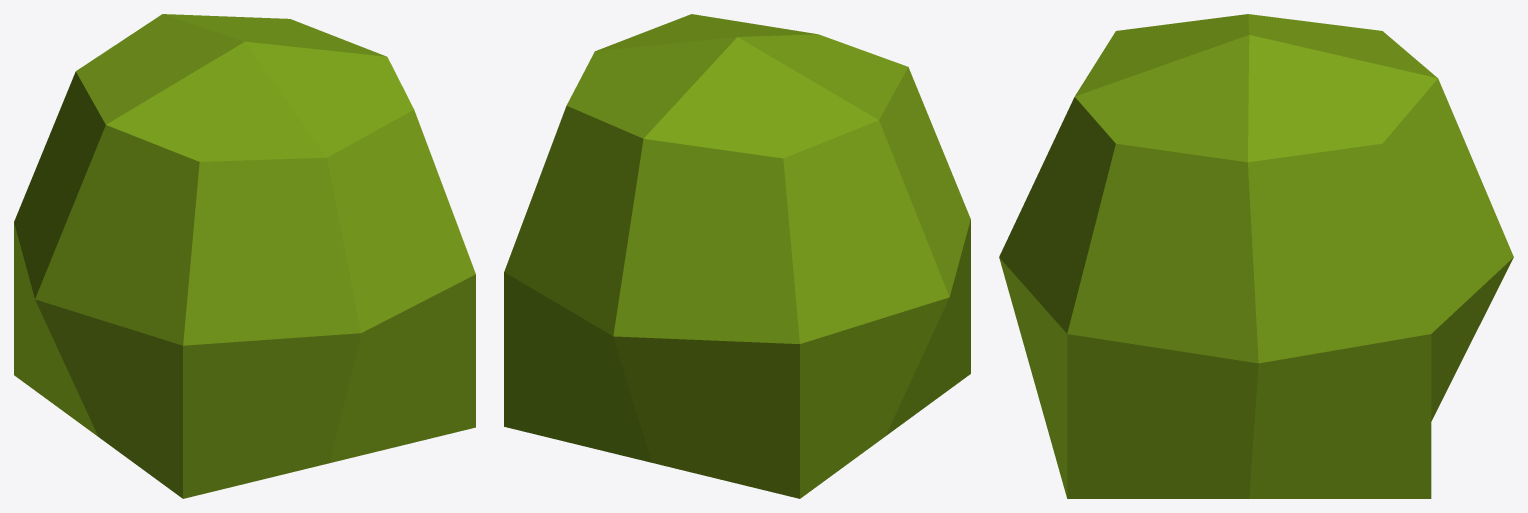
The model's file is tree-summer-leaves-013.glb.
3 views of the same model, side by side, from view 1: azimuth 30°, elevation 25°; view 2: azimuth 150°, elevation 25°; view 3: azimuth 270°, elevation 25° (orthographic). The views are drawn at different scales.
Parts seen in each view (by area): view 1: Cube.004_237; view 2: Cube.004_237; view 3: Cube.004_237.
Boxes of the visible parts, x1,y1,x2,y2 form: Cube.004_237: [14, 14, 475, 498]; Cube.004_237: [504, 14, 970, 498]; Cube.004_237: [999, 14, 1513, 498].
Bounding box in the file's own units: 0.7027 × 0.6085 × 0.7332.
